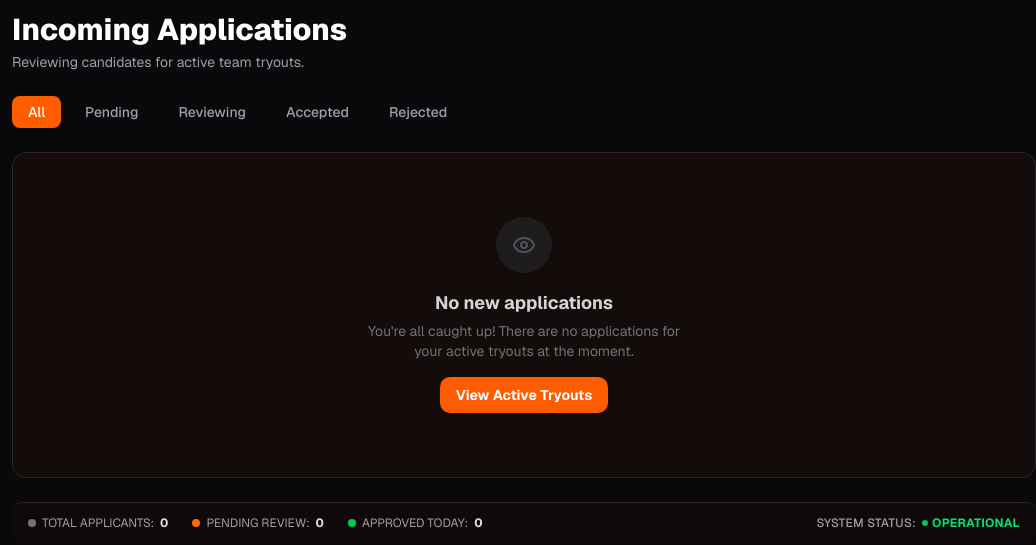
Scenario: ApplicationsTable › 10: empty non-All filter hides create-tryout CTA
Click the button "Pending" at (112, 112), box [69,96,154,128]
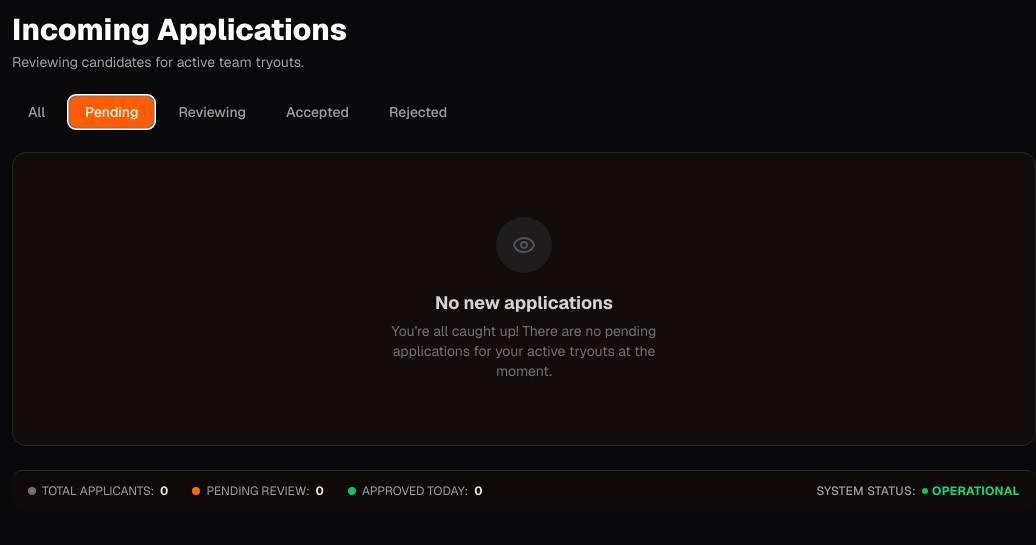
Result: the link "View Active Tryouts" is gone
